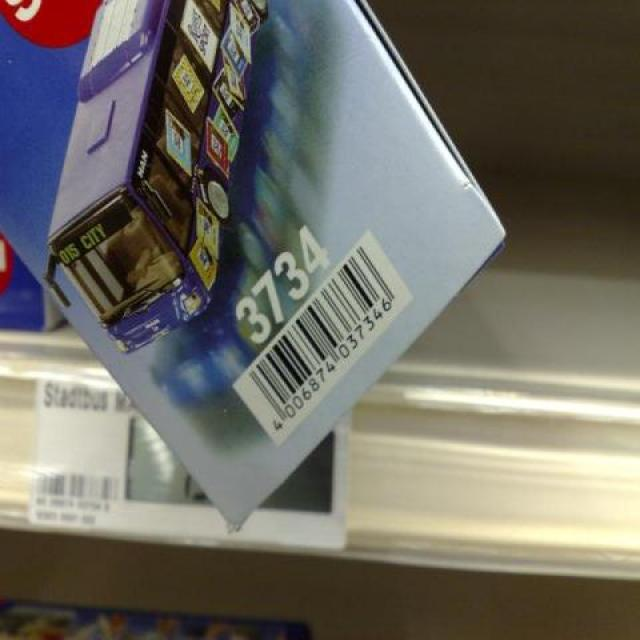Barcode: (231, 228, 414, 448)
